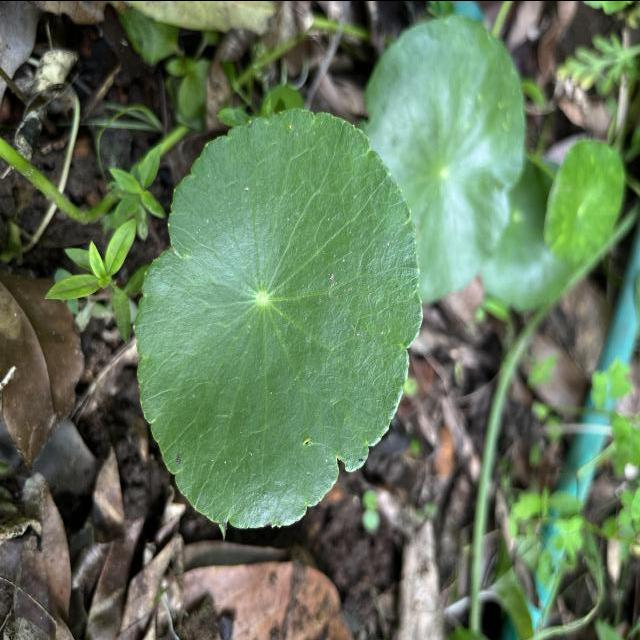Bacopa monnieri: (128, 104, 428, 532)
